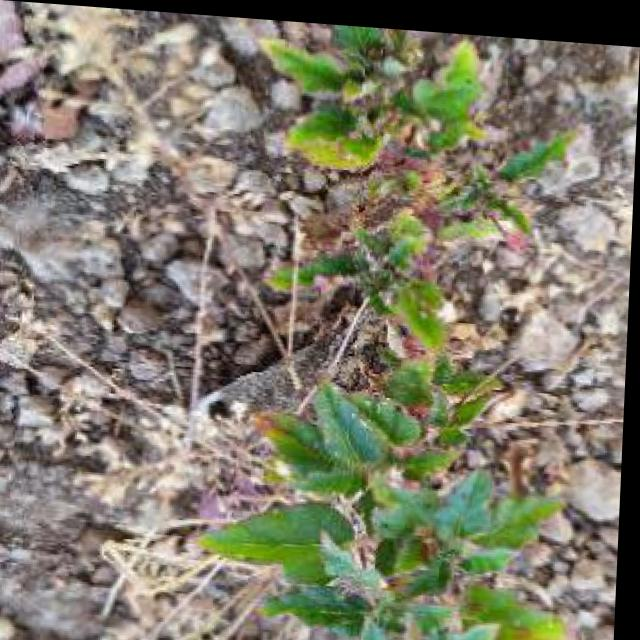weed: (317, 20, 640, 640)
